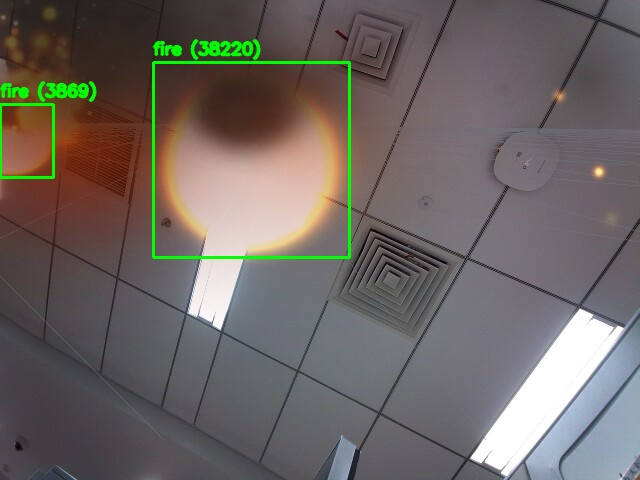fire: (153, 62, 349, 257), (0, 104, 53, 177)
